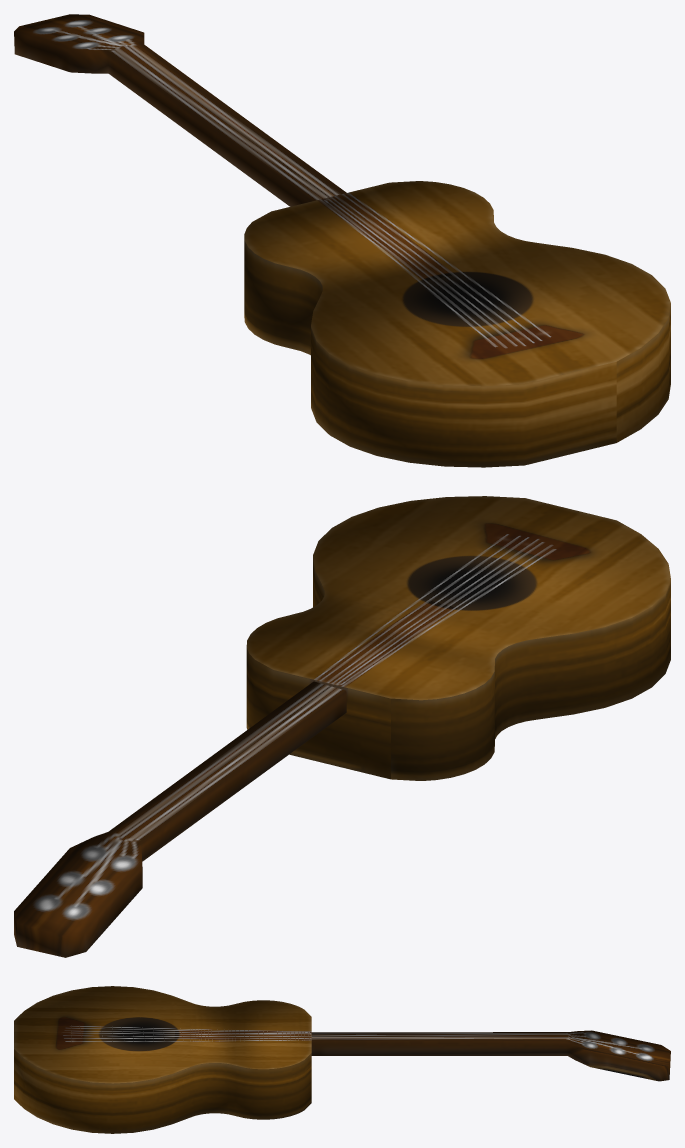
Rendered from Gitarre.FBX.
The picture shows the model from 3 angles, top to bottom: view 1: azimuth 30°, elevation 25°; view 2: azimuth 150°, elevation 25°; view 3: azimuth 270°, elevation 25°; orthographic projection. The views are drawn at different scales.
Visible parts, largest first — view 1: Gitarre; view 2: Gitarre; view 3: Gitarre.
Boxes of the visible parts, bbox=[...] form: Gitarre: bbox=[14, 14, 670, 467]; Gitarre: bbox=[14, 496, 670, 957]; Gitarre: bbox=[14, 986, 670, 1133].
Bounding box in the file's own units: 37.5 × 9.04 × 107.
